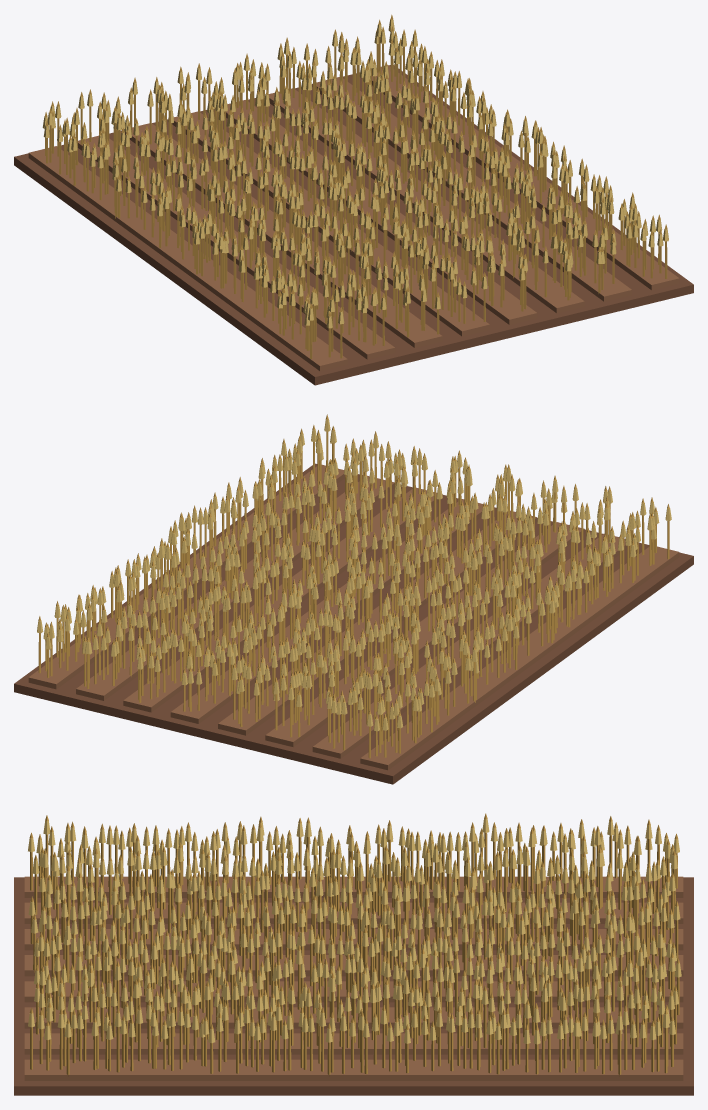
The model's file is field_wheat.glb.
The picture shows the model from 3 angles, top to bottom: view 1: azimuth 30°, elevation 25°; view 2: azimuth 150°, elevation 25°; view 3: azimuth 270°, elevation 25°; orthographic projection. The views are drawn at different scales.
Visible parts, largest first — view 1: field_wheat; view 2: field_wheat; view 3: field_wheat.
Part boxes in pixels (box(x1,y1,x2,y2)): field_wheat: box(14, 14, 693, 385); field_wheat: box(14, 414, 693, 784); field_wheat: box(14, 813, 693, 1095).
Bounding box in the file's own units: 8 × 1.43 × 11.
